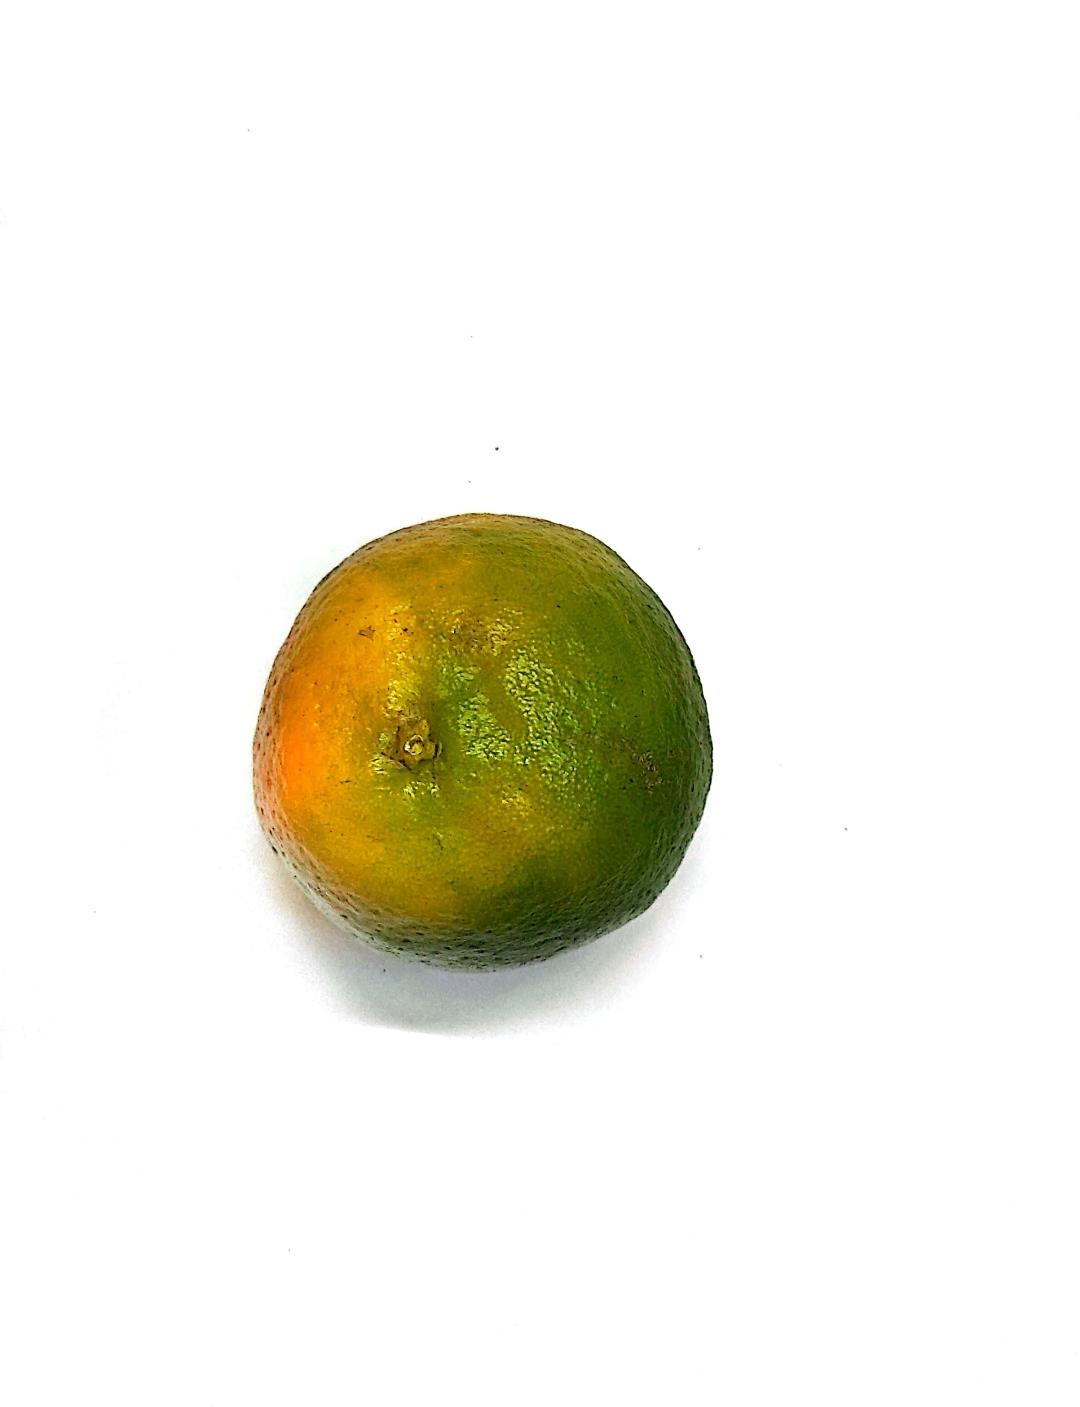Unripe: (483, 537, 717, 853)
